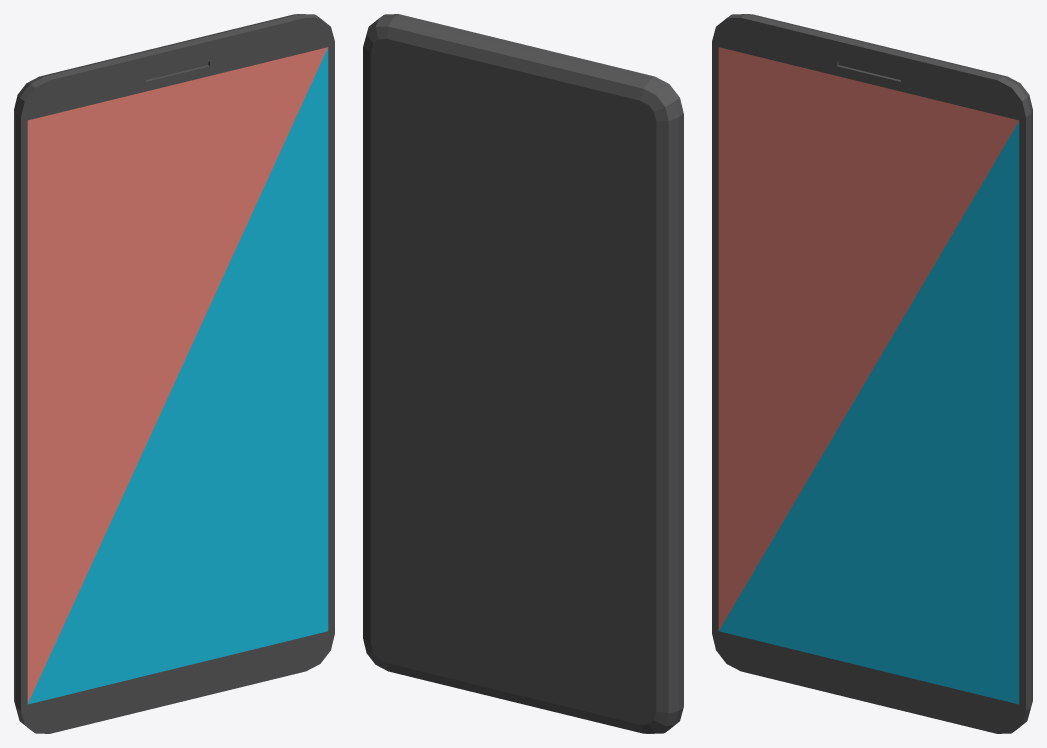
The model's file is Phone_01.gltf.
3 renders of one model, left to right at view 1: azimuth 30°, elevation 25°; view 2: azimuth 150°, elevation 25°; view 3: azimuth 330°, elevation 25°, orthographic.
Parts seen in each view (by area): view 1: node-0; view 2: node-0; view 3: node-0.
Part boxes in pixels (x1=…): node-0: x1=14, y1=14, x2=334, y2=733; node-0: x1=363, y1=14, x2=683, y2=733; node-0: x1=712, y1=14, x2=1032, y2=733.
Bounding box in the file's own units: 4.91 × 9.76 × 0.3608.
